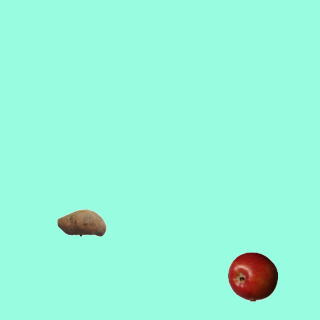Apple Braeburn: (227, 251, 277, 301)
Potato Sweet: (56, 197, 106, 247)
